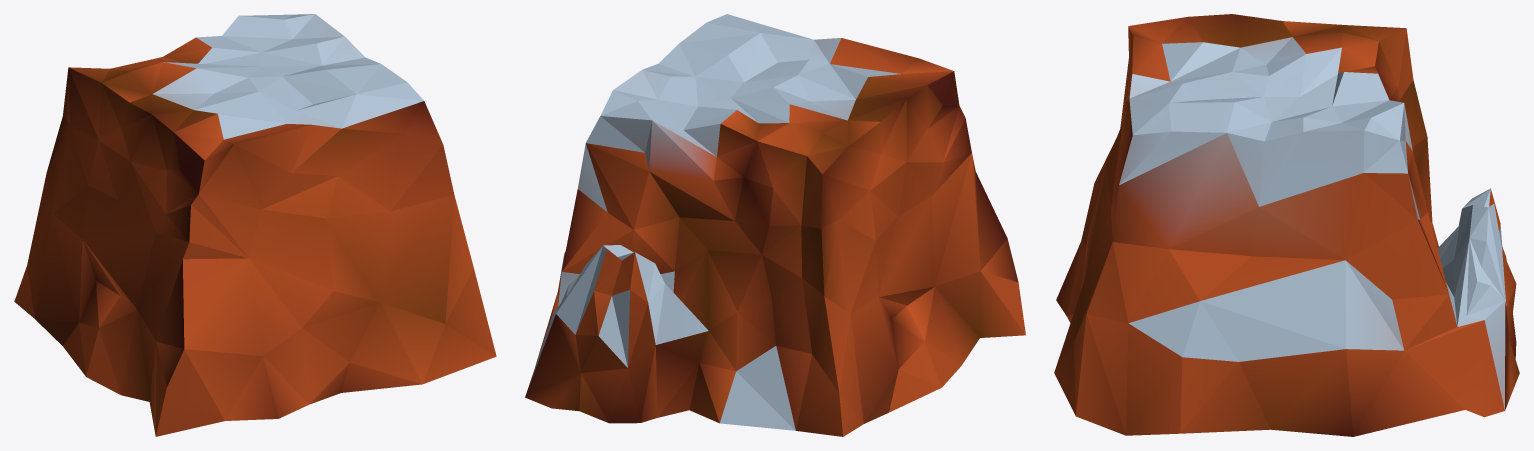
File: montanhaElo.fbx
The picture shows the model from 3 angles, left to right: view 1: azimuth 30°, elevation 25°; view 2: azimuth 150°, elevation 25°; view 3: azimuth 270°, elevation 25°; orthographic projection. The views are drawn at different scales.
Parts seen in each view (by area): view 1: Cube; view 2: Cube; view 3: Cube.
Boxes of the visible parts, x1,y1,x2,y2 form: Cube: (14,14,496,436); Cube: (525,14,1025,436); Cube: (1054,14,1519,436).
Size of the model in its own units: 31.83 by 22.45 by 34.1.
